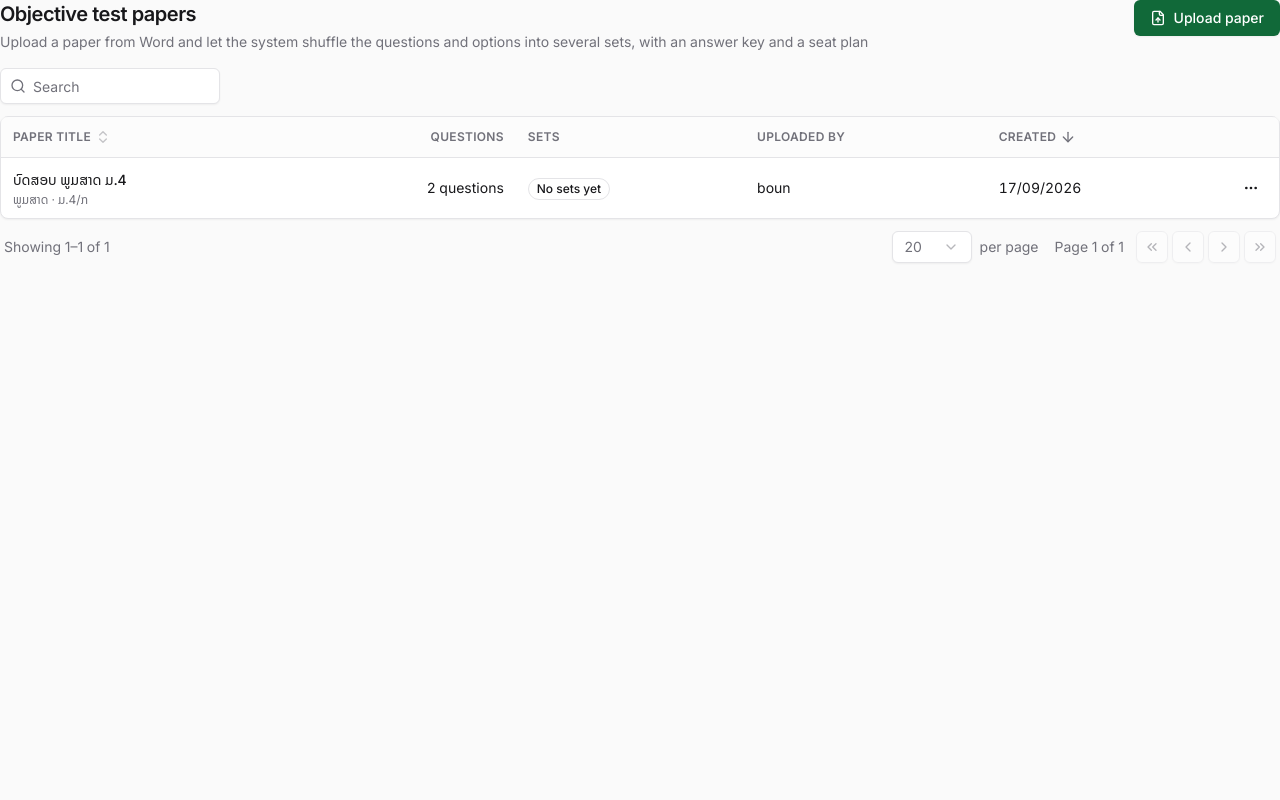
Test: the list › shows each paper with how far it has got, and offers the upload
Expected: the row that starts with "ບົດສອບ ພູມສາດ ມ.4" is shown, [13,168,126,190]
Expected: the row that starts with "ບົດສອບ ພູມສາດ ມ.4" shows "ພູມສາດ · ມ.4/ກ", [13,190,88,210]
Click the button "Upload paper". click: (1207, 18)
box: [1134,0,1279,36]
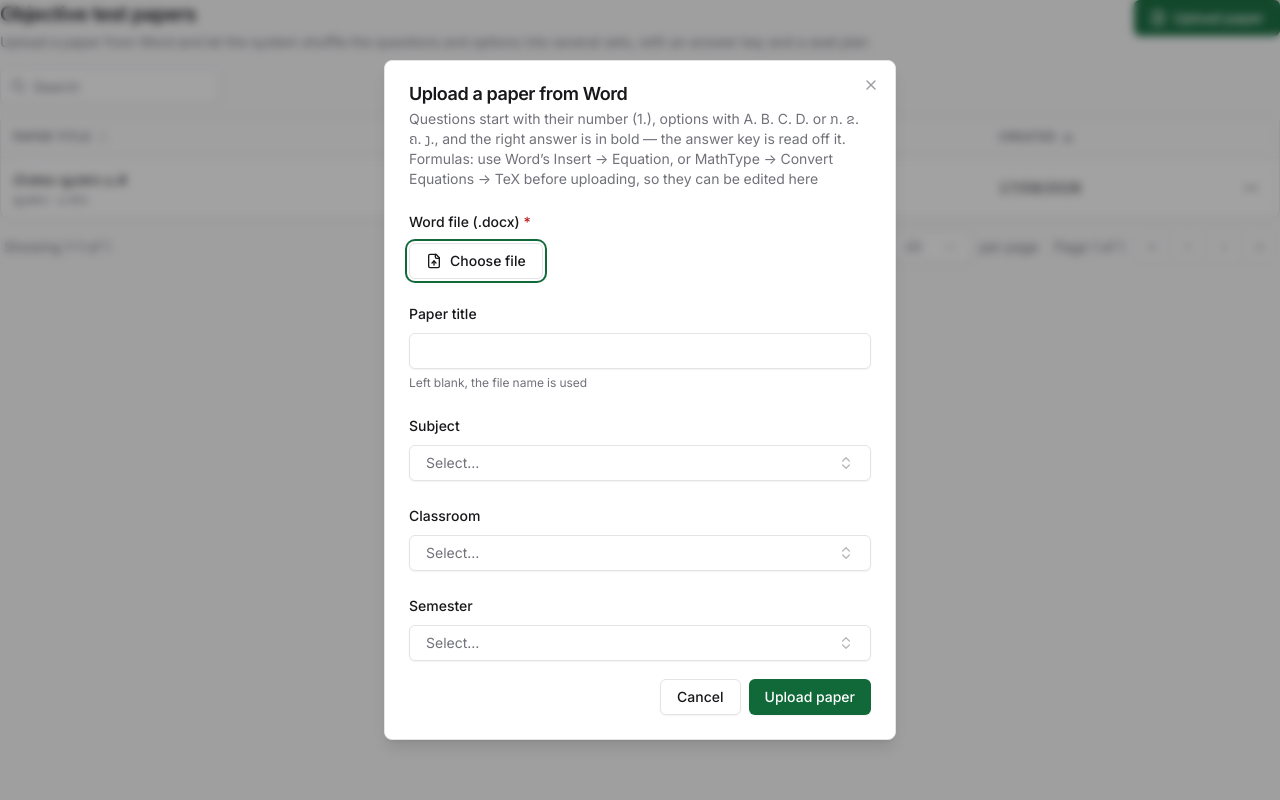
Expected: the dialog shows "Upload a paper from Word", [409,79,627,108]
